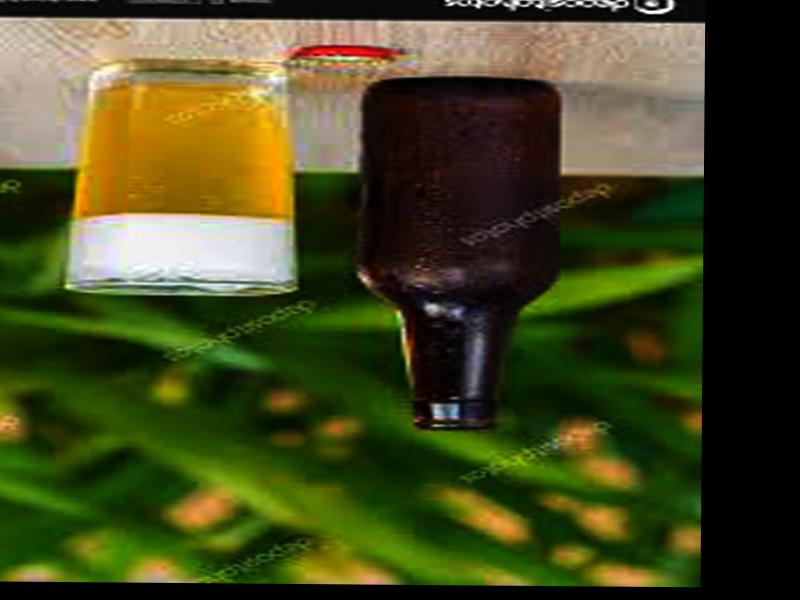Beer: (359, 74, 551, 429)
